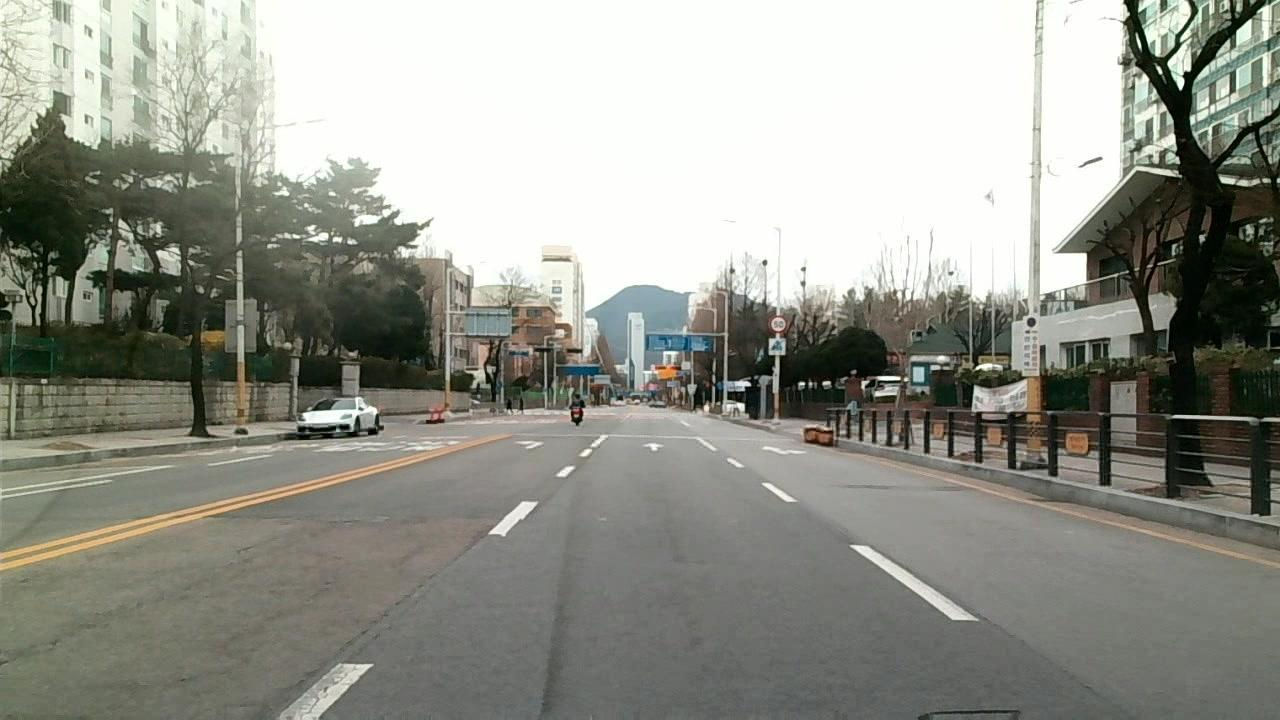banner: (1, 533, 281, 663), (974, 613, 1126, 709), (969, 384, 1041, 415)
